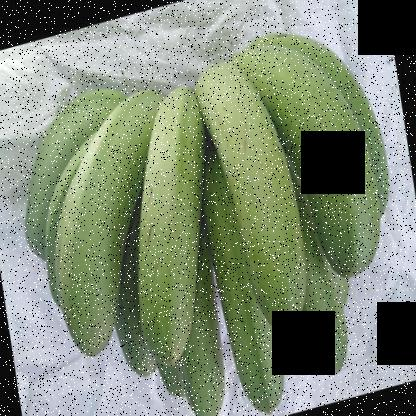freshunripe: (198, 52, 309, 331), (57, 76, 158, 374), (276, 35, 390, 278), (127, 63, 212, 370), (225, 252, 298, 415), (291, 248, 353, 377), (178, 276, 233, 415)
